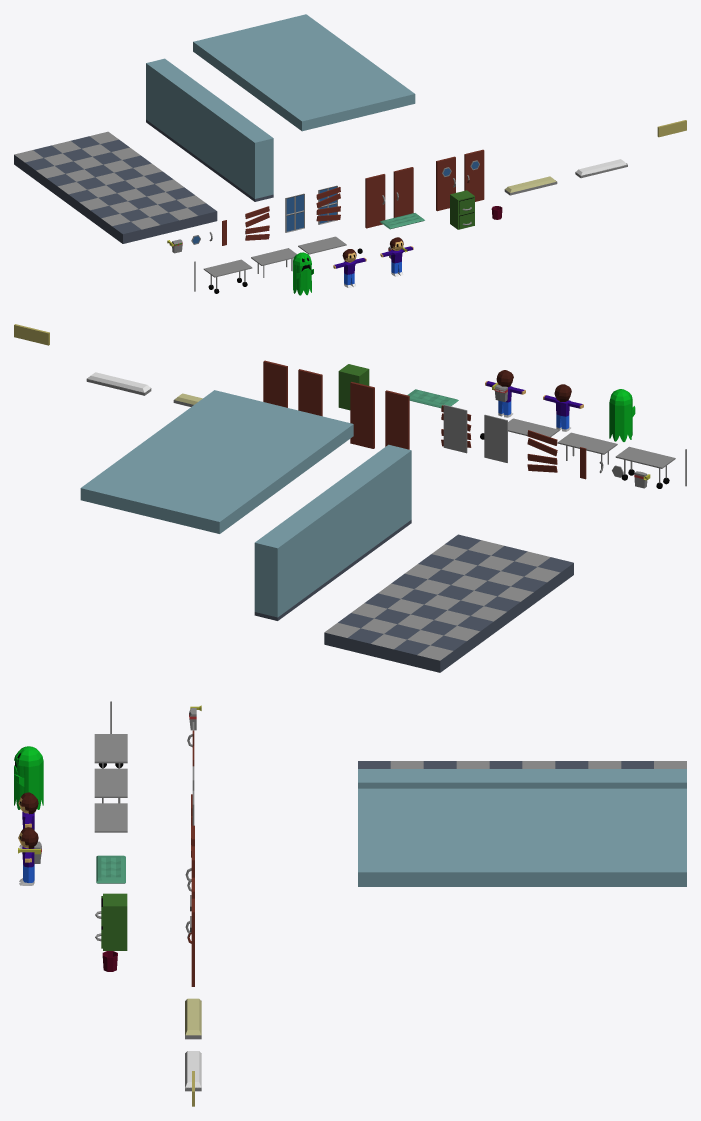
The model's file is AssetsLimpios.fbx.
The picture shows the model from 3 angles, top to bottom: view 1: azimuth 30°, elevation 25°; view 2: azimuth 150°, elevation 25°; view 3: azimuth 270°, elevation 25°; orthographic projection. The views are drawn at different scales.
Visible parts, largest first — view 1: Techo, Piso, Pared, Puerta_izq, Puerta_der, Puerta_ventana_der, Puerta_ventana_izq, Locker, Ventana_tapada, Fantasma, Ventana, Mesa_ruedas (+7 smaller); view 2: Techo, Piso, Pared, Puerta_der, Puerta_izq, Ventana_tapada, Fantasma, Puerta_ventana_izq, Puerta_ventana_der, Ventana, Mesa_ruedas, Tablones (+7 smaller); view 3: Techo, Pared, Piso, Locker, Fantasma, Mesa_ruedas, Mesa, Plancha, Personaje_mochila, Cochon, Lampara, Lampara_prendida.
Boxes of the visible parts, <box> form: Techo: <box>193,14,415,131</box>; Piso: <box>14,131,217,243</box>; Pared: <box>146,58,273,201</box>; Puerta_izq: <box>365,174,385,228</box>; Puerta_der: <box>393,167,413,217</box>; Puerta_ventana_der: <box>464,149,484,201</box>; Puerta_ventana_izq: <box>436,156,455,211</box>; Locker: <box>450,190,474,229</box>; Ventana_tapada: <box>316,185,340,224</box>; Fantasma: <box>293,252,313,295</box>; Ventana: <box>285,193,304,232</box>; Mesa_ruedas: <box>203,259,252,293</box>; Techo: <box>80,390,353,533</box>; Piso: <box>324,534,573,672</box>; Pared: <box>254,444,411,620</box>; Puerta_der: <box>350,382,374,448</box>; Puerta_izq: <box>385,390,409,449</box>; Ventana_tapada: <box>441,404,471,453</box>; Fantasma: <box>609,389,635,441</box>; Puerta_ventana_izq: <box>298,369,322,416</box>; Puerta_ventana_der: <box>263,360,287,407</box>; Ventana: <box>484,414,507,462</box>; Mesa_ruedas: <box>615,446,675,488</box>; Tablones: <box>527,430,557,472</box>; Techo: <box>358,788,686,886</box>; Pared: <box>358,769,686,788</box>; Piso: <box>358,761,686,768</box>; Locker: <box>95,893,127,950</box>; Fantasma: <box>14,746,43,809</box>; Mesa_ruedas: <box>94,734,127,768</box>; Mesa: <box>94,768,127,803</box>; Plancha: <box>94,803,127,832</box>; Personaje_mochila: <box>18,827,41,885</box>; Cochon: <box>96,855,125,883</box>; Lampara: <box>185,998,201,1039</box>; Lampara_prendida: <box>185,1051,201,1091</box>.
Size of the model in its own units: 11011 by 1600 by 8180.
